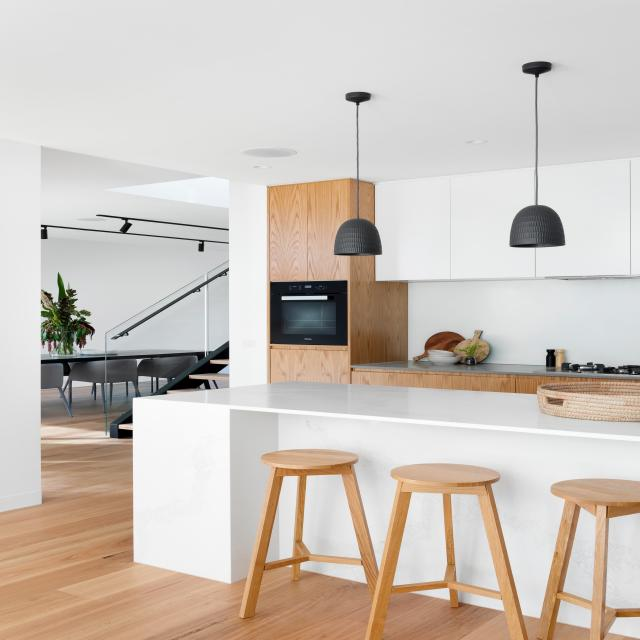floor: (0, 380, 373, 640), (380, 592, 511, 640), (106, 382, 136, 436), (552, 622, 591, 640), (522, 616, 542, 640), (138, 380, 156, 397), (603, 633, 640, 640), (158, 379, 168, 389), (72, 386, 92, 390), (64, 388, 68, 404), (62, 388, 63, 390), (172, 379, 174, 380), (138, 396, 139, 397)
